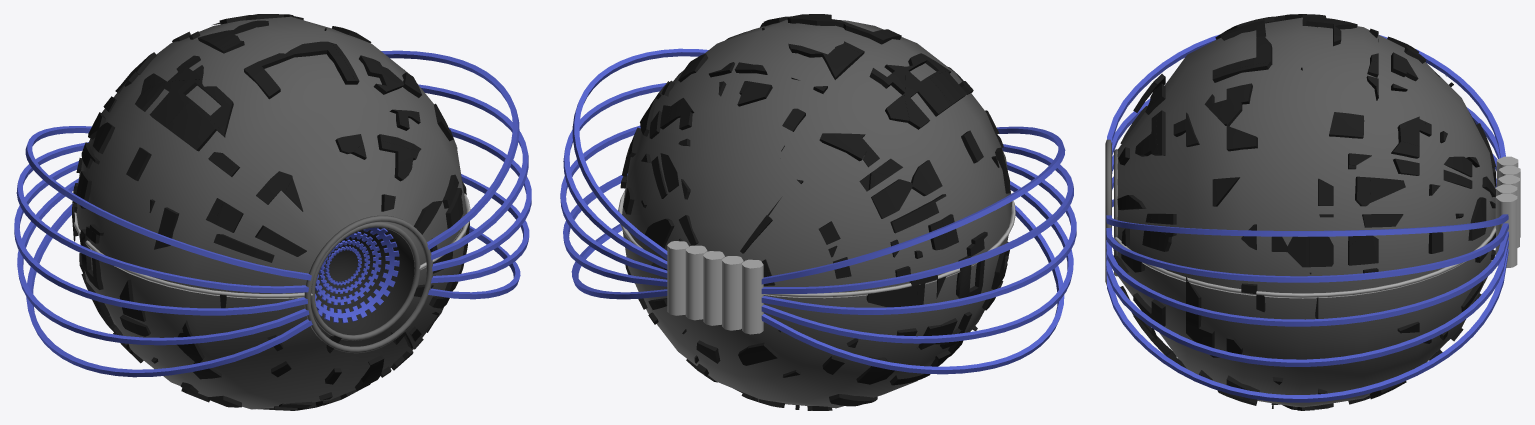
Rendered from Deathstar 20%.fbx.
3 renders of one model, left to right at view 1: azimuth 30°, elevation 25°; view 2: azimuth 150°, elevation 25°; view 3: azimuth 270°, elevation 25°, orthographic.
Parts seen in each view (by area): view 1: pSphere28, pCube11, pSphere8, pCylinder17, pTorus3, pTorus1, pSphere29_cell.297, pTorus2, pSphere29_cell.760, pSphere29_cell.091, pSphere29_cell.731, pSphere29_cell.207 (+10 smaller); view 2: pSphere28, pCube11, pCylinder19, pSphere29_cell.297, pTorus2, pSphere29_cell.314, pSphere29_cell.038, pSphere29_cell.574, pSphere29_cell.152, pSphere29_cell.252, pSphere29_cell.068, pSphere29_cell.419 (+8 smaller); view 3: pSphere28, pCube11, pCylinder19, pTorus2, pSphere29_cell.194, pSphere29_cell.766, pSphere29_cell.391, pSphere29_cell.154, pSphere29_cell.091, pSphere29_cell.367, pTorus3, pSphere29_cell.165 (+18 smaller).
Boxes of the visible parts, x1=… form: pSphere28: x1=76, y1=16, x2=466, y2=409; pCube11: x1=14, y1=50, x2=531, y2=377; pSphere8: x1=315, y1=227, x2=414, y2=335; pCylinder17: x1=315, y1=227, x2=399, y2=323; pTorus3: x1=304, y1=215, x2=432, y2=353; pTorus1: x1=310, y1=222, x2=420, y2=340; pSphere29_cell.297: x1=135, y1=79, x2=203, y2=128; pTorus2: x1=73, y1=193, x2=470, y2=298; pSphere29_cell.760: x1=166, y1=102, x2=225, y2=151; pSphere29_cell.091: x1=286, y1=41, x2=354, y2=84; pSphere29_cell.731: x1=244, y1=53, x2=287, y2=99; pSphere29_cell.207: x1=190, y1=86, x2=233, y2=134; pSphere28: x1=622, y1=19, x2=1012, y2=408; pCube11: x1=560, y1=48, x2=1076, y2=374; pCylinder19: x1=667, y1=241, x2=763, y2=334; pSphere29_cell.297: x1=904, y1=65, x2=952, y2=129; pTorus2: x1=618, y1=190, x2=1015, y2=298; pSphere29_cell.314: x1=866, y1=266, x2=917, y2=307; pSphere29_cell.038: x1=956, y1=239, x2=984, y2=298; pSphere29_cell.574: x1=871, y1=179, x2=912, y2=218; pSphere29_cell.152: x1=819, y1=133, x2=868, y2=161; pSphere29_cell.252: x1=822, y1=43, x2=860, y2=79; pSphere29_cell.068: x1=911, y1=160, x2=942, y2=196; pSphere29_cell.419: x1=890, y1=201, x2=938, y2=233; pSphere28: x1=1117, y1=17, x2=1495, y2=407; pCube11: x1=1106, y1=34, x2=1508, y2=402; pCylinder19: x1=1495, y1=156, x2=1520, y2=267; pTorus2: x1=1113, y1=186, x2=1496, y2=298; pSphere29_cell.194: x1=1204, y1=83, x2=1252, y2=126; pSphere29_cell.766: x1=1186, y1=297, x2=1242, y2=357; pSphere29_cell.391: x1=1348, y1=235, x2=1378, y2=265; pSphere29_cell.154: x1=1329, y1=112, x2=1364, y2=138; pSphere29_cell.091: x1=1212, y1=34, x2=1272, y2=75; pSphere29_cell.367: x1=1310, y1=236, x2=1333, y2=267; pTorus3: x1=1105, y1=139, x2=1111, y2=285; pSphere29_cell.165: x1=1226, y1=126, x2=1257, y2=151.
Size of the model in its own units: 1457 by 1072 by 1131.
